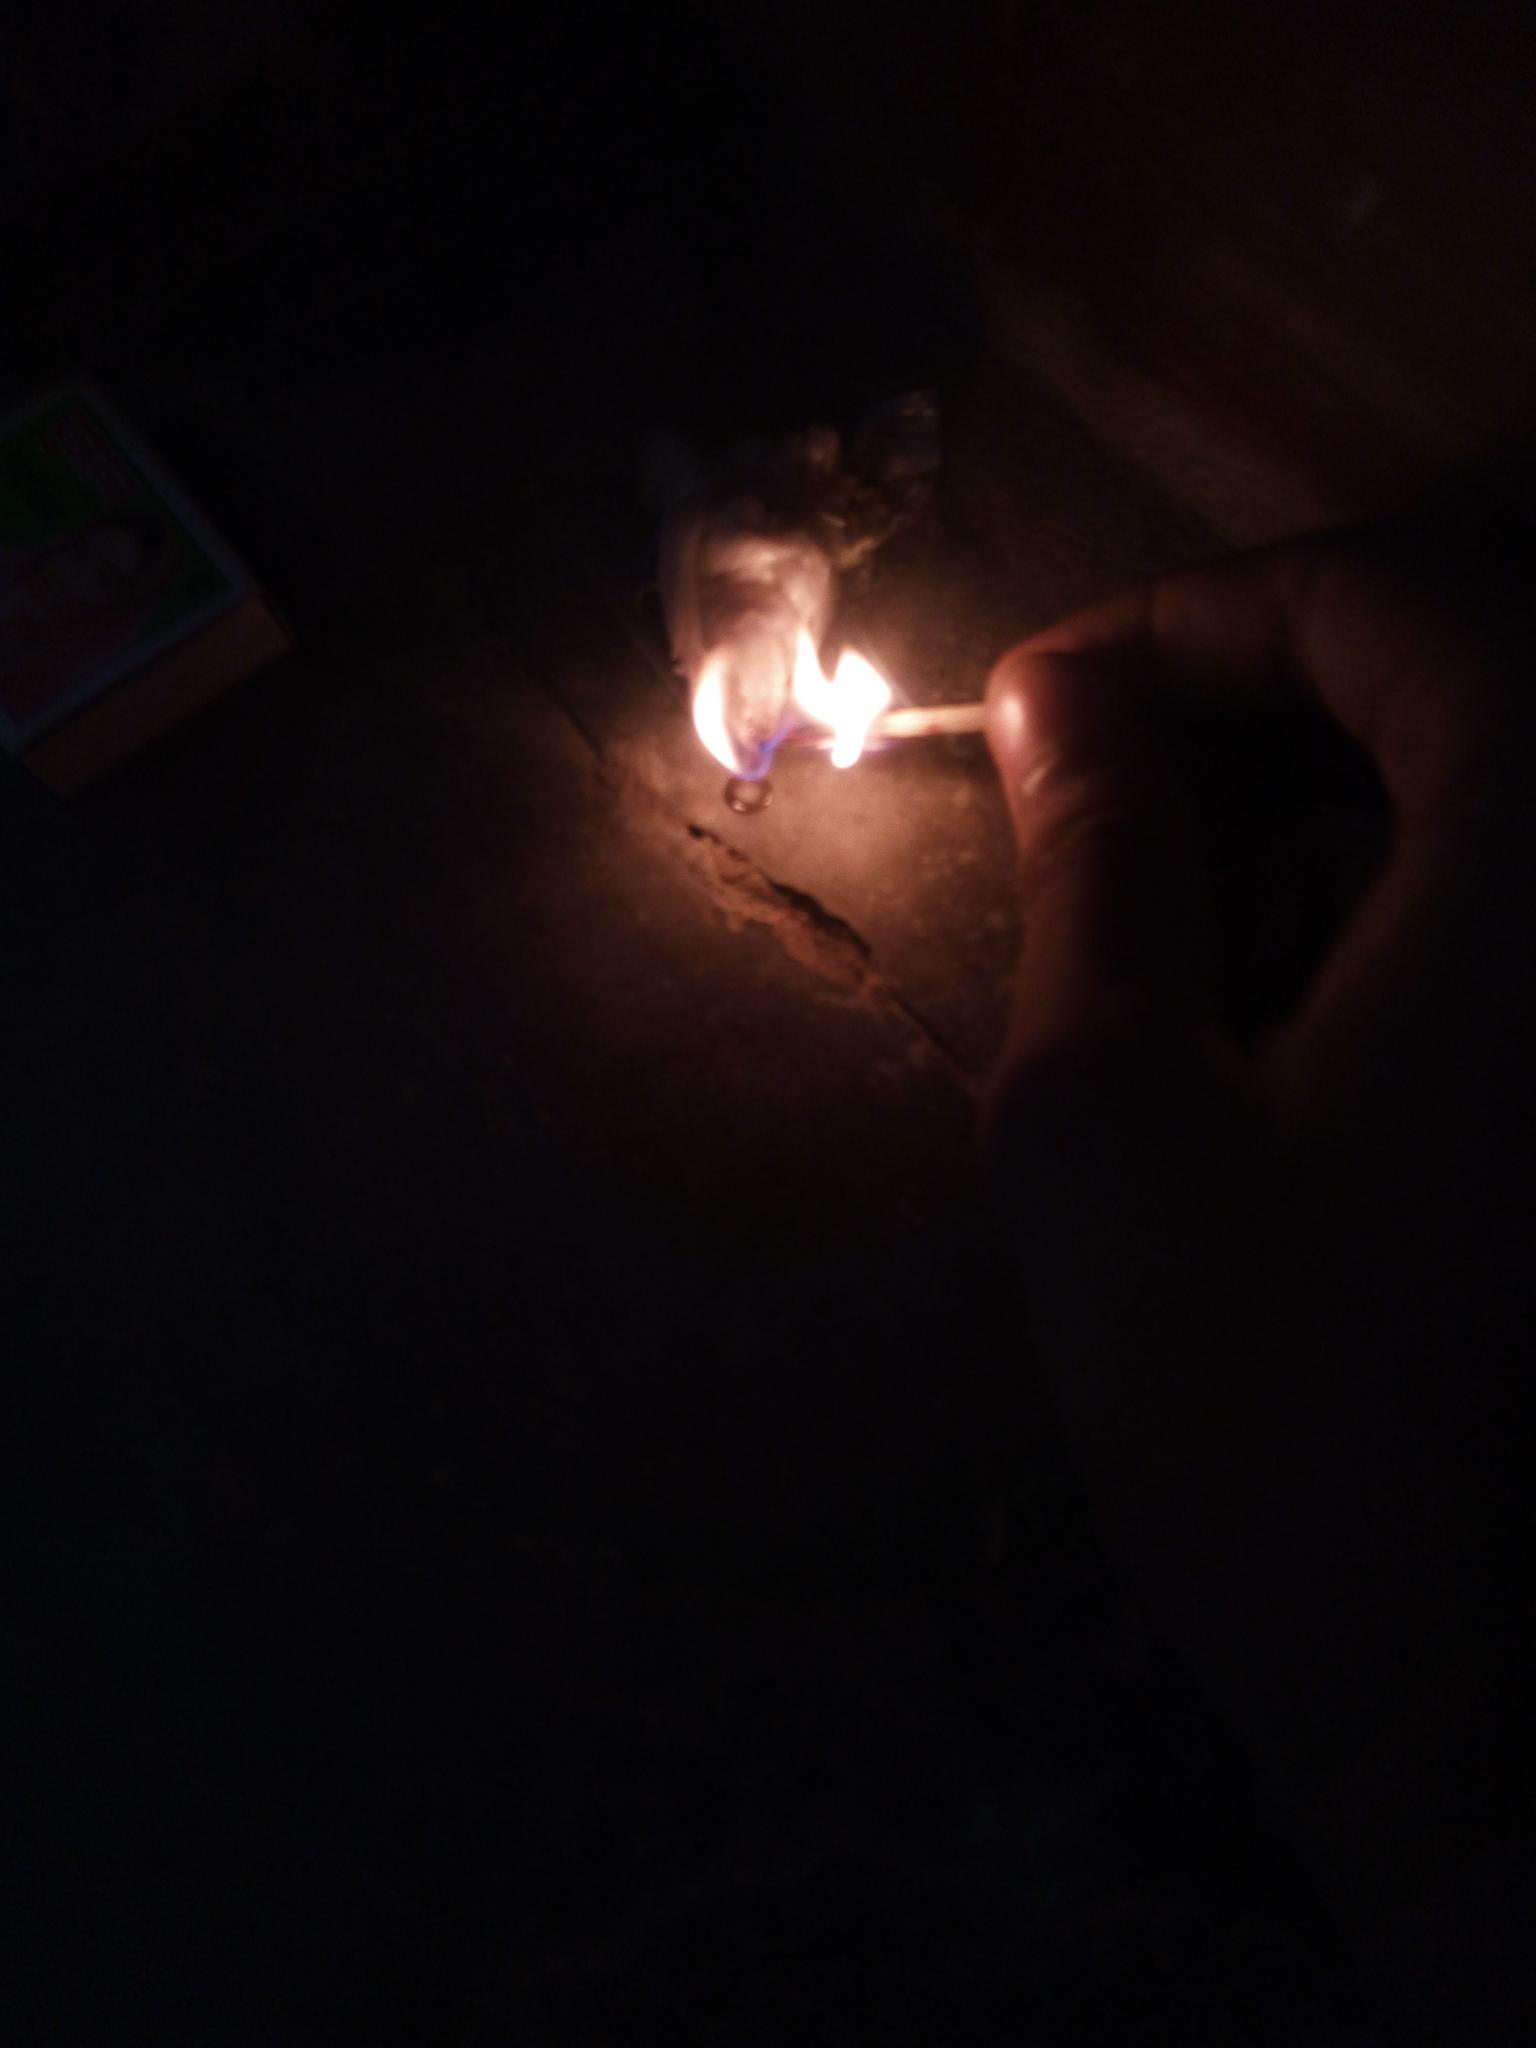Fire: (682, 535, 923, 782)
